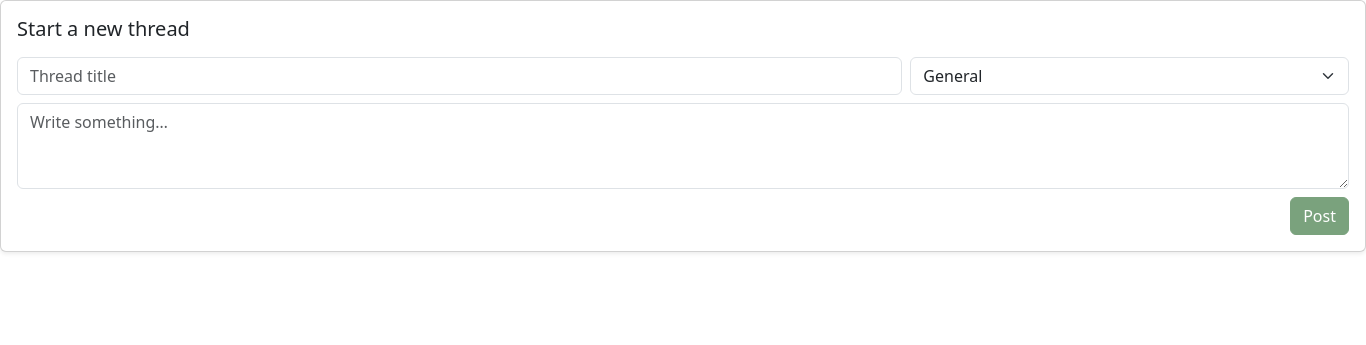
NewThreadForm › displays error when API fails
Type "My Title" into the field with placeholder "Thread title" at [460, 76], box left=17, top=57, right=902, bottom=95
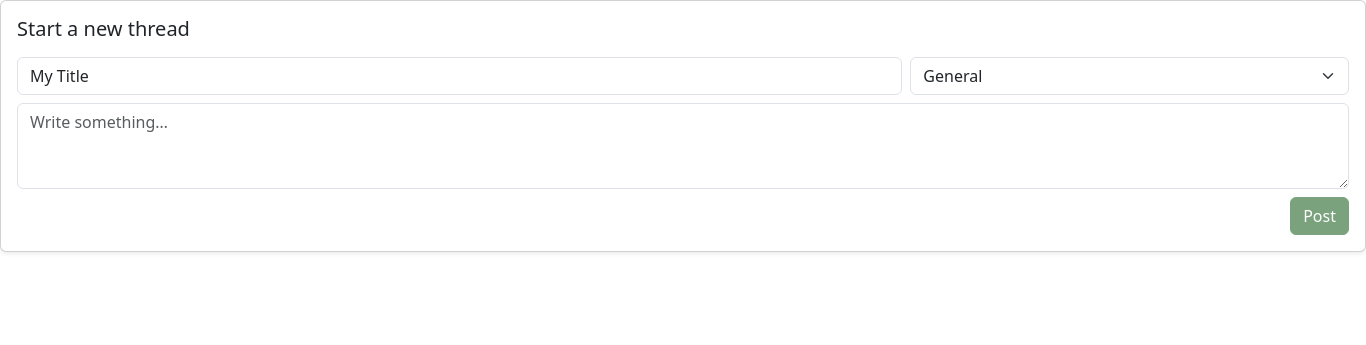
Type "My Body" into the text box with placeholder "Write something…" at [683, 146], box left=17, top=103, right=1349, bottom=189
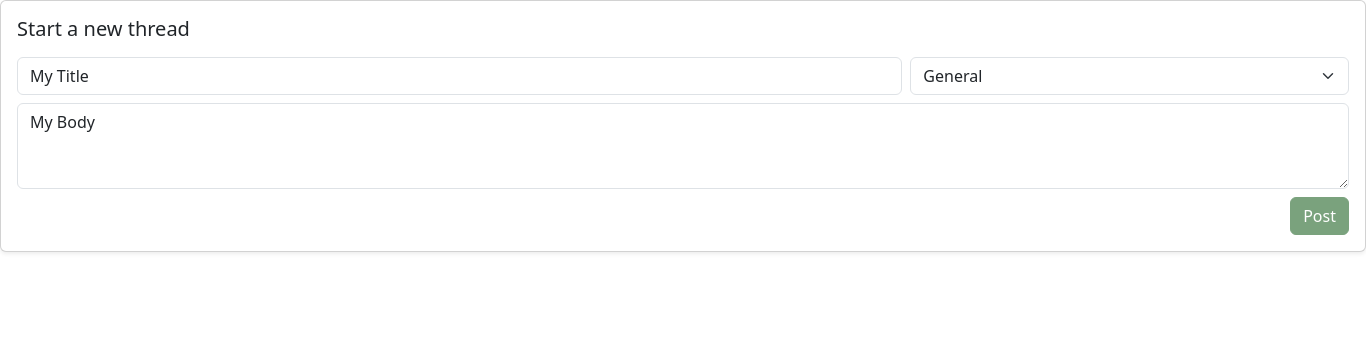
Click the button "Post" at [1320, 216], box left=1290, top=197, right=1349, bottom=235
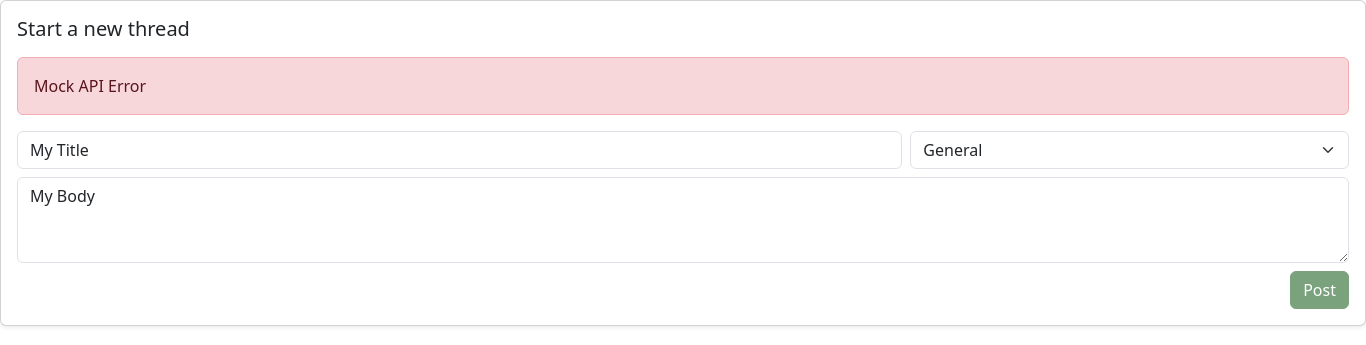
Expected: the text "Mock API Error" is shown, left=17, top=57, right=1349, bottom=115
